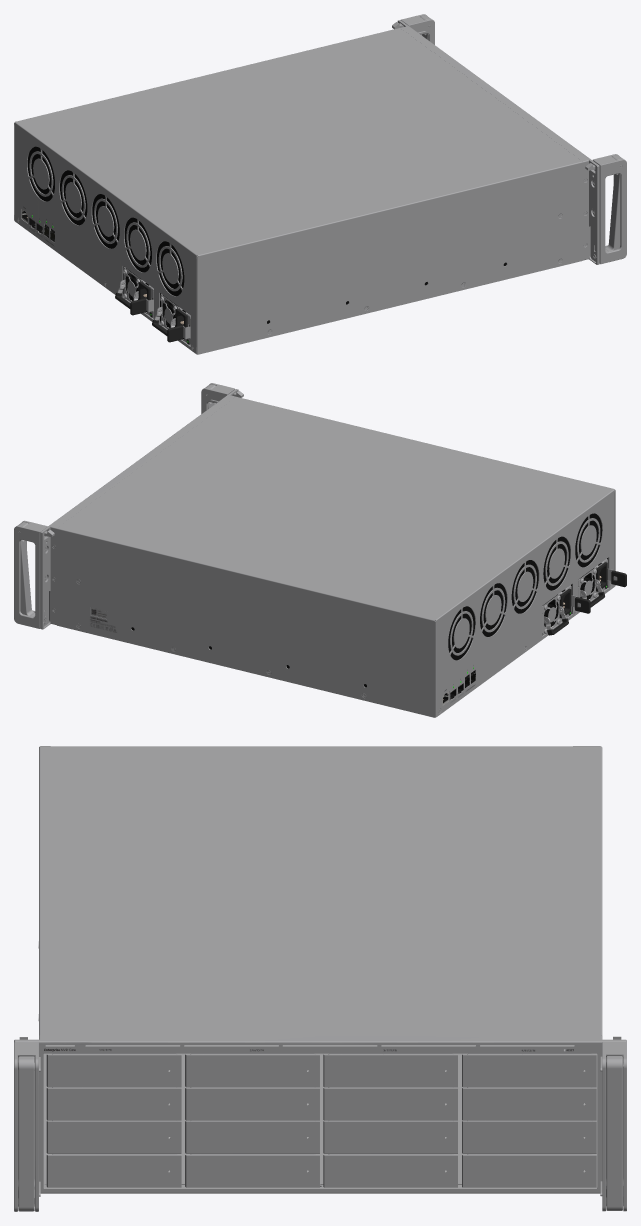
Rendered from envr-core.glb.
3 renders of one model, top to bottom at view 1: azimuth 30°, elevation 25°; view 2: azimuth 150°, elevation 25°; view 3: azimuth 270°, elevation 25°, orthographic. The views are drawn at different scales.
Visible parts, largest first — view 1: ENVR-Core-Module, Inside_2.001, NAUO498_instance.001, ¶ê¨¤22_instance.001, NAUO498.001; view 2: ENVR-Core-Module, Inside_2.001, NAUO498.001, ¶ê¨¤22.001, NAUO498_instance.001; view 3: ENVR-Core-Module, ¿é¤J1.001, ¿é¤J1_instance_15.001, ¿é¤J1_instance_7.001, ¿é¤J1_instance_23.001, ¿é¤J1_instance_29.001, ¿é¤J1_instance_27.001, ¿é¤J1_instance_25.001, ¿é¤J1_instance_13.001, ¿é¤J1_instance.001, ¿é¤J1_instance_3.001, ¿é¤J1_instance_5.001 (+9 smaller).
Boxes of the visible parts, x1=… form: ENVR-Core-Module: x1=14, y1=20, x2=599, y2=354; Inside_2.001: x1=27, y1=146, x2=190, y2=326; NAUO498_instance.001: x1=592, y1=154, x2=626, y2=264; ¶ê¨¤22_instance.001: x1=585, y1=155, x2=622, y2=251; NAUO498.001: x1=401, y1=14, x2=434, y2=44; ENVR-Core-Module: x1=40, y1=389, x2=615, y2=717; Inside_2.001: x1=448, y1=513, x2=608, y2=679; NAUO498.001: x1=14, y1=520, x2=47, y2=628; ¶ê¨¤22.001: x1=18, y1=522, x2=54, y2=616; NAUO498_instance.001: x1=201, y1=383, x2=234, y2=413; ENVR-Core-Module: x1=14, y1=746, x2=626, y2=1193; ¿é¤J1.001: x1=46, y1=1053, x2=181, y2=1087; ¿é¤J1_instance_15.001: x1=323, y1=1053, x2=457, y2=1087; ¿é¤J1_instance_7.001: x1=462, y1=1053, x2=596, y2=1087; ¿é¤J1_instance_23.001: x1=185, y1=1053, x2=319, y2=1087; ¿é¤J1_instance_29.001: x1=46, y1=1087, x2=181, y2=1120; ¿é¤J1_instance_27.001: x1=46, y1=1120, x2=181, y2=1153; ¿é¤J1_instance_25.001: x1=46, y1=1154, x2=181, y2=1187; ¿é¤J1_instance_13.001: x1=323, y1=1087, x2=457, y2=1120; ¿é¤J1_instance.001: x1=462, y1=1154, x2=596, y2=1187; ¿é¤J1_instance_3.001: x1=462, y1=1120, x2=596, y2=1153; ¿é¤J1_instance_5.001: x1=462, y1=1087, x2=596, y2=1120.
Bounding box in the file's own units: 0.6163 × 0.1324 × 0.4814.
Materials: 3 (2 with a texture image).
